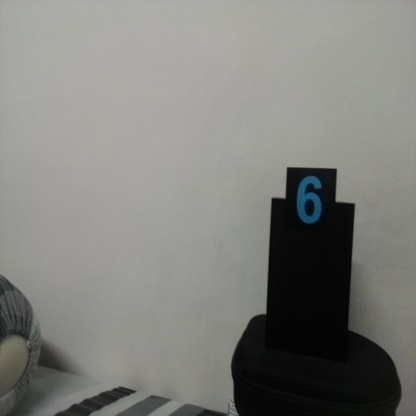id_6: (284, 168, 336, 246)
